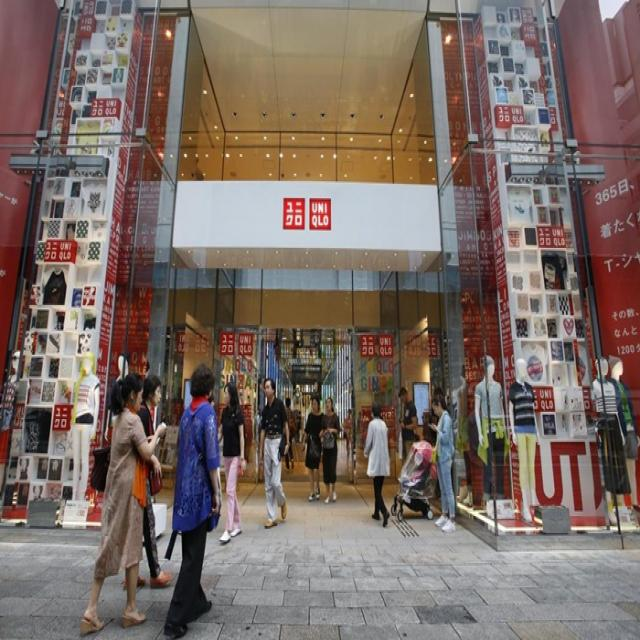body: (77, 369, 166, 636), (158, 358, 221, 638), (455, 352, 543, 525), (134, 369, 174, 592), (70, 346, 129, 496), (592, 348, 640, 524), (216, 379, 248, 545), (257, 375, 291, 529), (426, 392, 456, 533), (192, 392, 222, 522), (362, 399, 391, 528), (300, 393, 325, 502), (318, 395, 341, 503), (0, 345, 25, 442), (397, 385, 419, 459), (284, 395, 296, 470), (342, 406, 353, 456)
